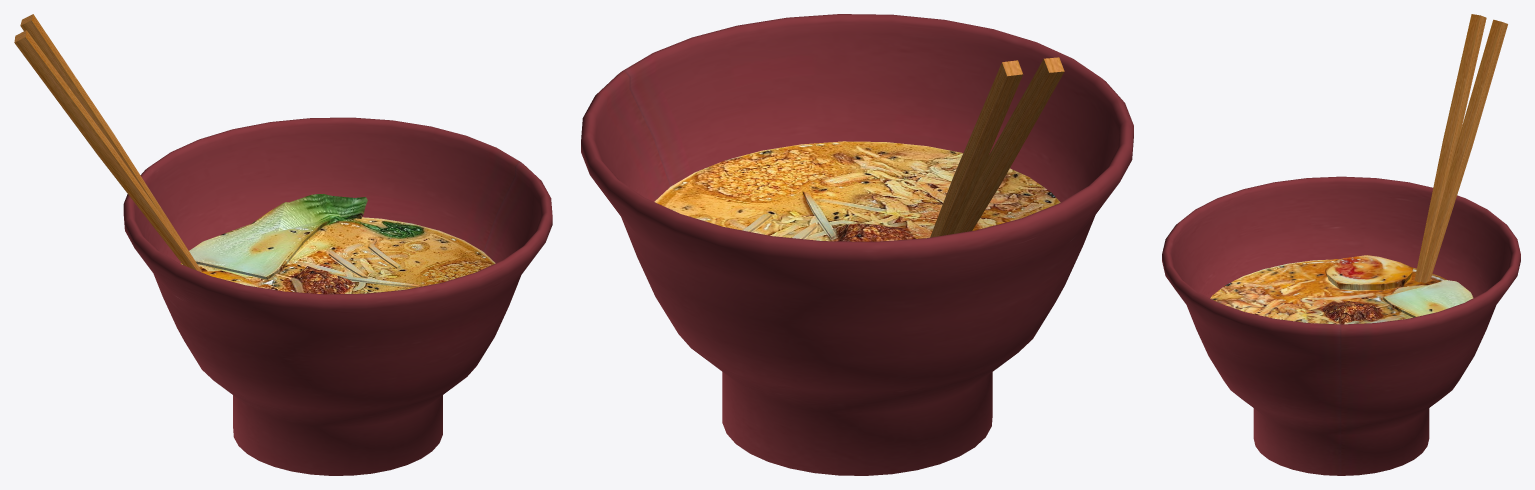
The model's file is Ramen.glb.
3 renders of one model, left to right at view 1: azimuth 30°, elevation 25°; view 2: azimuth 150°, elevation 25°; view 3: azimuth 270°, elevation 25°, orthographic. The views are drawn at different scales.
Visible parts, largest first — view 1: ramen.001; view 2: ramen.001; view 3: ramen.001.
Part boxes in pixels (box(x1,y1,x2,y2)): ramen.001: box(14, 14, 552, 475); ramen.001: box(581, 14, 1133, 475); ramen.001: box(1162, 14, 1520, 475).
Bounding box in the file's own units: 1.38 × 1.23 × 1.2.
3 materials, 3 textured.
